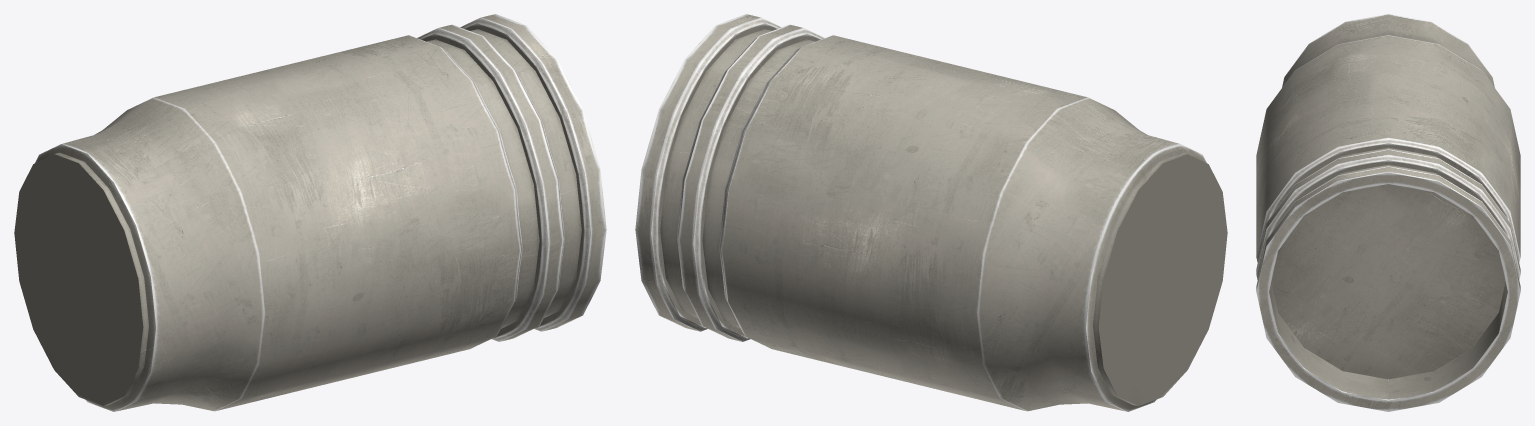
Rendered from guard_14_c_d.glb.
3 views of the same model, side by side, from view 1: azimuth 30°, elevation 25°; view 2: azimuth 150°, elevation 25°; view 3: azimuth 270°, elevation 25° (orthographic). The views are drawn at different scales.
Parts seen in each view (by area): view 1: guard_14_c_d_lod0; view 2: guard_14_c_d_lod0; view 3: guard_14_c_d_lod0.
Boxes of the visible parts, x1=… form: guard_14_c_d_lod0: x1=14, y1=14, x2=606, y2=411; guard_14_c_d_lod0: x1=635, y1=14, x2=1227, y2=411; guard_14_c_d_lod0: x1=1256, y1=14, x2=1520, y2=411.
Size of what is drawn, in the model's own units: 0.0569 by 0.0354 by 0.0354.
Materials: 1 (1 with a texture image).
